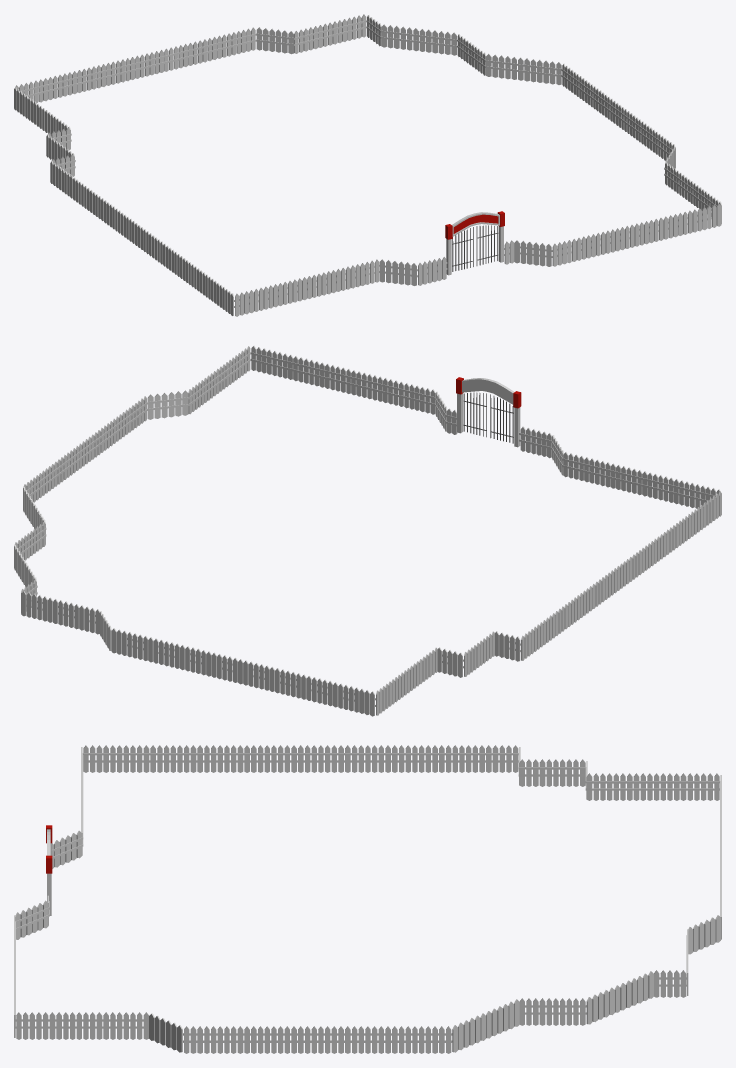
File: muroportao.fbx
3 views of the same model, one above another, from view 1: azimuth 30°, elevation 25°; view 2: azimuth 150°, elevation 25°; view 3: azimuth 270°, elevation 25° (orthographic). The views are drawn at different scales.
Visible parts, largest first — view 1: Cube.001; view 2: Cube.001; view 3: Cube.001.
Part boxes in pixels (x1=…): Cube.001: x1=14, y1=14, x2=721, y2=316; Cube.001: x1=14, y1=345, x2=721, y2=716; Cube.001: x1=14, y1=745, x2=721, y2=1053.
Bounding box in the file's own units: 5069 × 4770 × 547.
